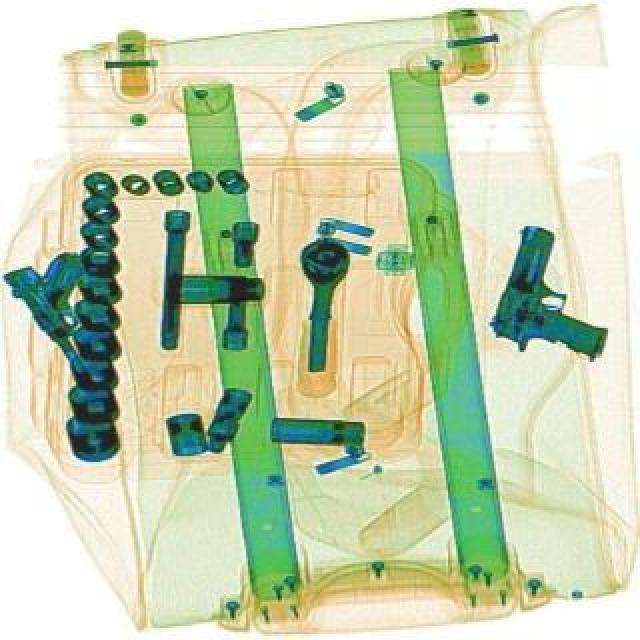gun: (482, 226, 630, 374), (0, 244, 142, 388)
